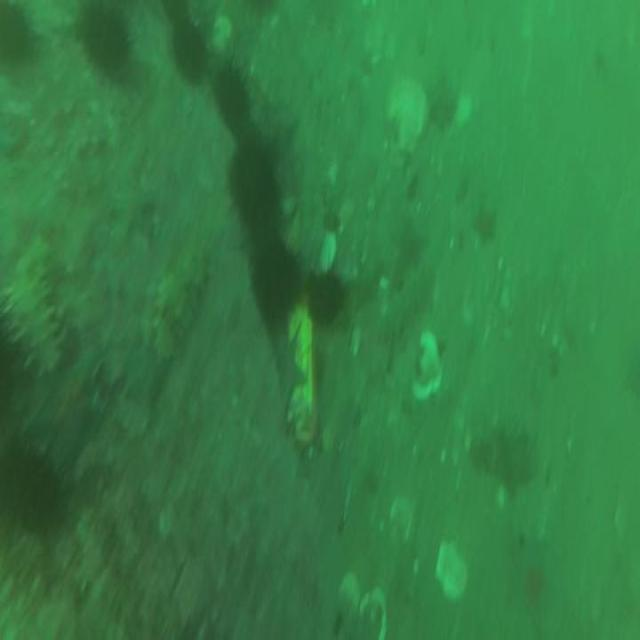echinus: (4, 438, 58, 536), (250, 234, 298, 333), (76, 6, 132, 79), (230, 145, 275, 220), (171, 23, 208, 88), (1, 0, 31, 73), (216, 63, 248, 128), (307, 273, 344, 329)
holothurian: (9, 237, 63, 378), (156, 246, 210, 354)
scallop: (388, 76, 428, 156), (317, 231, 338, 273), (212, 11, 230, 51)
starfish: (514, 544, 556, 624)
